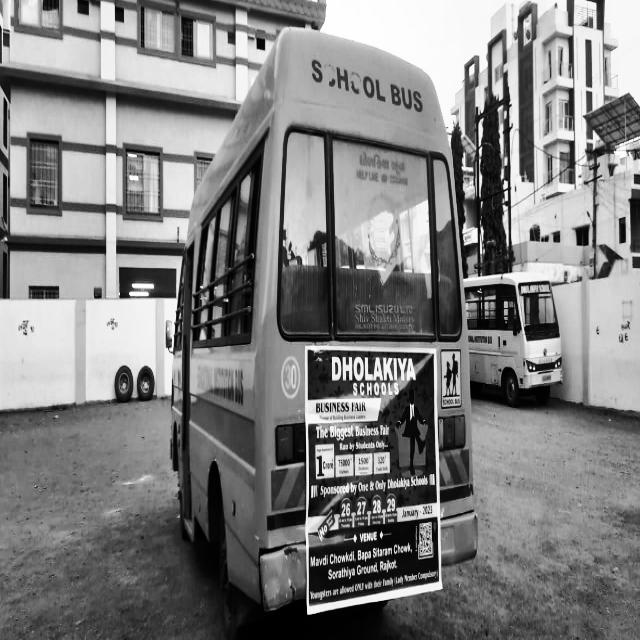Bus: (166, 33, 488, 616), (471, 254, 569, 414)
